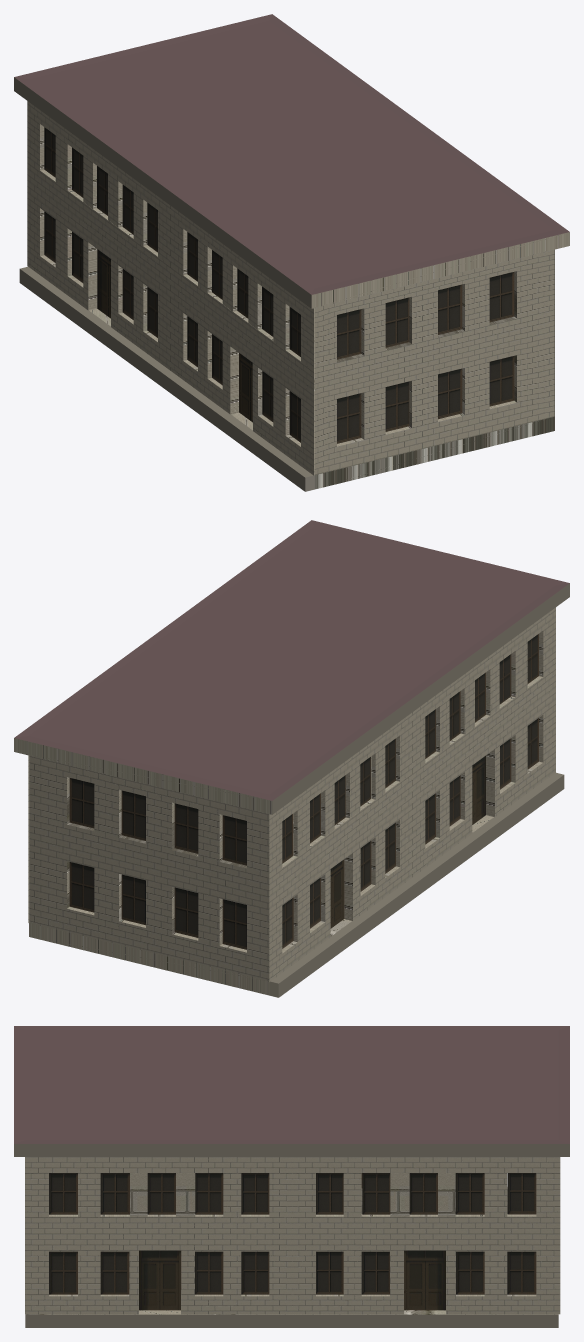
The picture shows the model from 3 angles, top to bottom: view 1: azimuth 30°, elevation 25°; view 2: azimuth 150°, elevation 25°; view 3: azimuth 270°, elevation 25°; orthographic projection. The views are drawn at different scales.
Visible parts, largest first — view 1: Empty.001; view 2: Empty.001; view 3: Empty.001.
Part boxes in pixels (bbox=[...]): Empty.001: bbox=[14, 14, 569, 491]; Empty.001: bbox=[14, 520, 569, 997]; Empty.001: bbox=[14, 1026, 569, 1327].
Bounding box in the file's own units: 4.01 × 2.98 × 8.
Materials: 4 (3 with a texture image).
